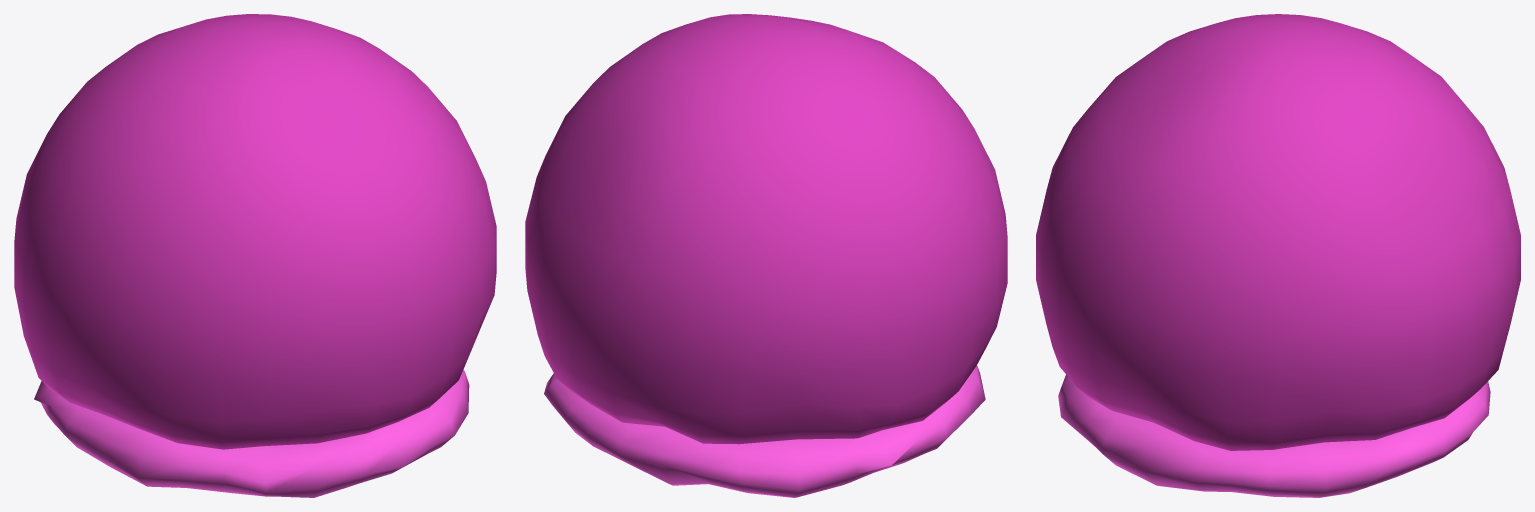
File: icecream_1.fbx
3 renders of one model, left to right at view 1: azimuth 30°, elevation 25°; view 2: azimuth 150°, elevation 25°; view 3: azimuth 270°, elevation 25°, orthographic.
Parts seen in each view (by area): view 1: icecream_1; view 2: icecream_1; view 3: icecream_1.
Part boxes in pixels (x1,y1,x2,y2): icecream_1: (14,14,496,497); icecream_1: (525,14,1007,497); icecream_1: (1036,14,1520,497).
Bounding box in the file's own units: 199 × 176 × 199.
